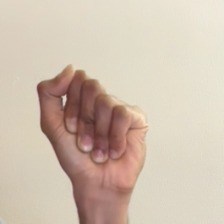A: (34, 59, 158, 204)
